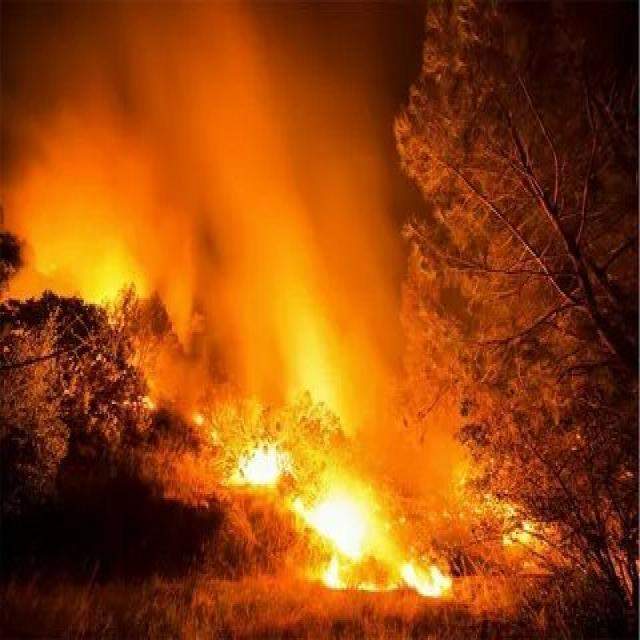Fire: (273, 452, 593, 622)
Smoke: (1, 4, 360, 248)
